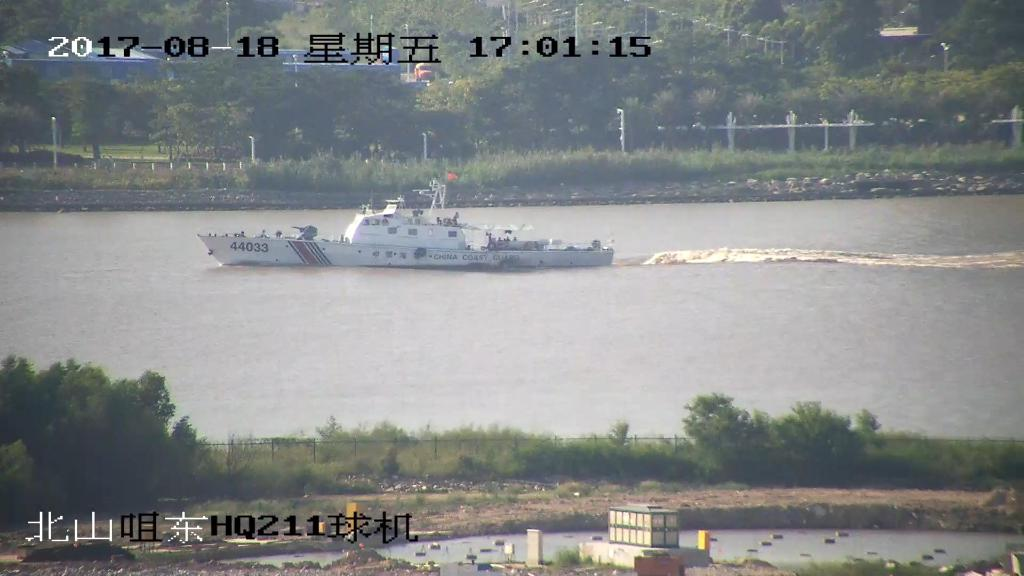Warship: (193, 173, 623, 271)
